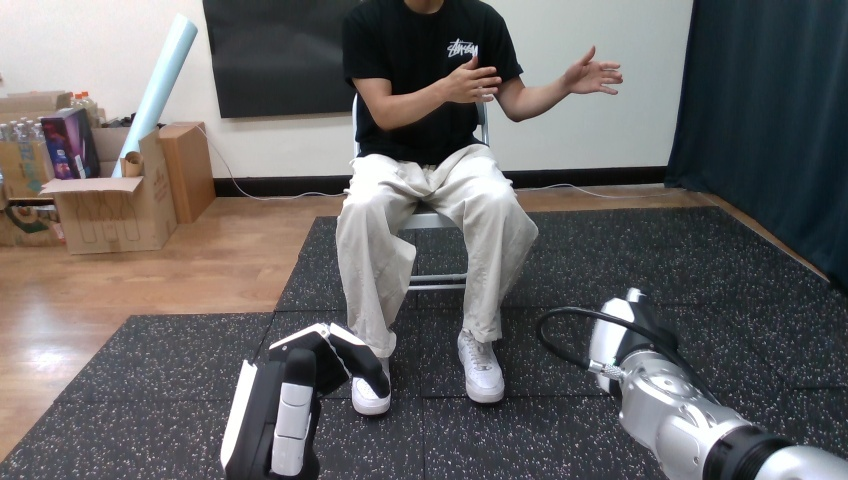left robot hand: (536, 288, 847, 479), (221, 323, 389, 478), (438, 56, 502, 102), (561, 46, 622, 94)
